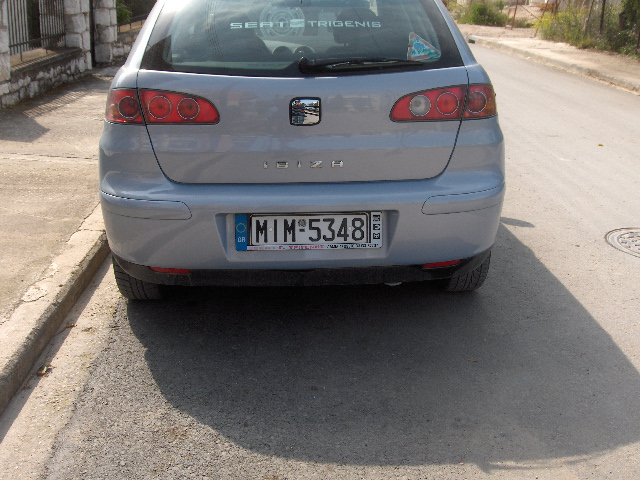licenseplate: (235, 212, 370, 243)
